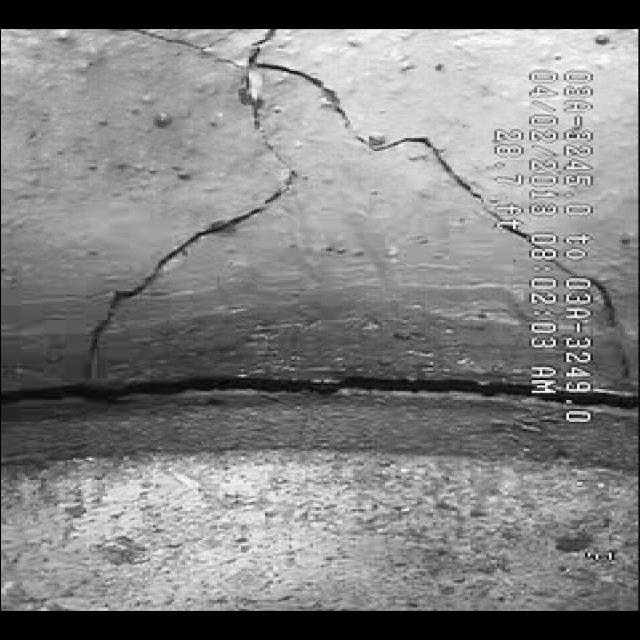Crack: (133, 45, 447, 303)
